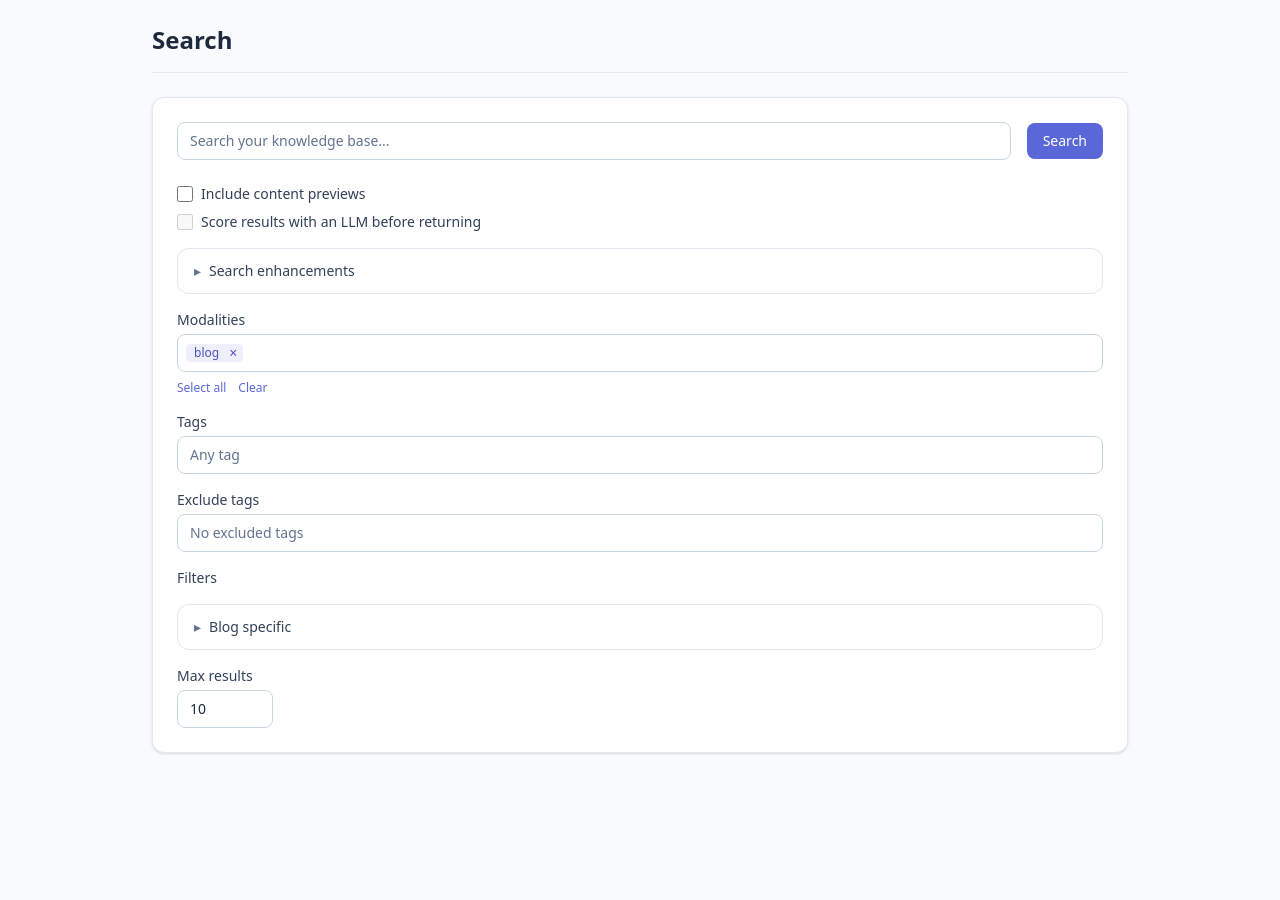
Test: Search › uses the singular result wording for one result
Type "q" into the field with placeholder "Search your knowledge base...".
click(594, 141); type("q")  # box [177, 122, 1011, 160]
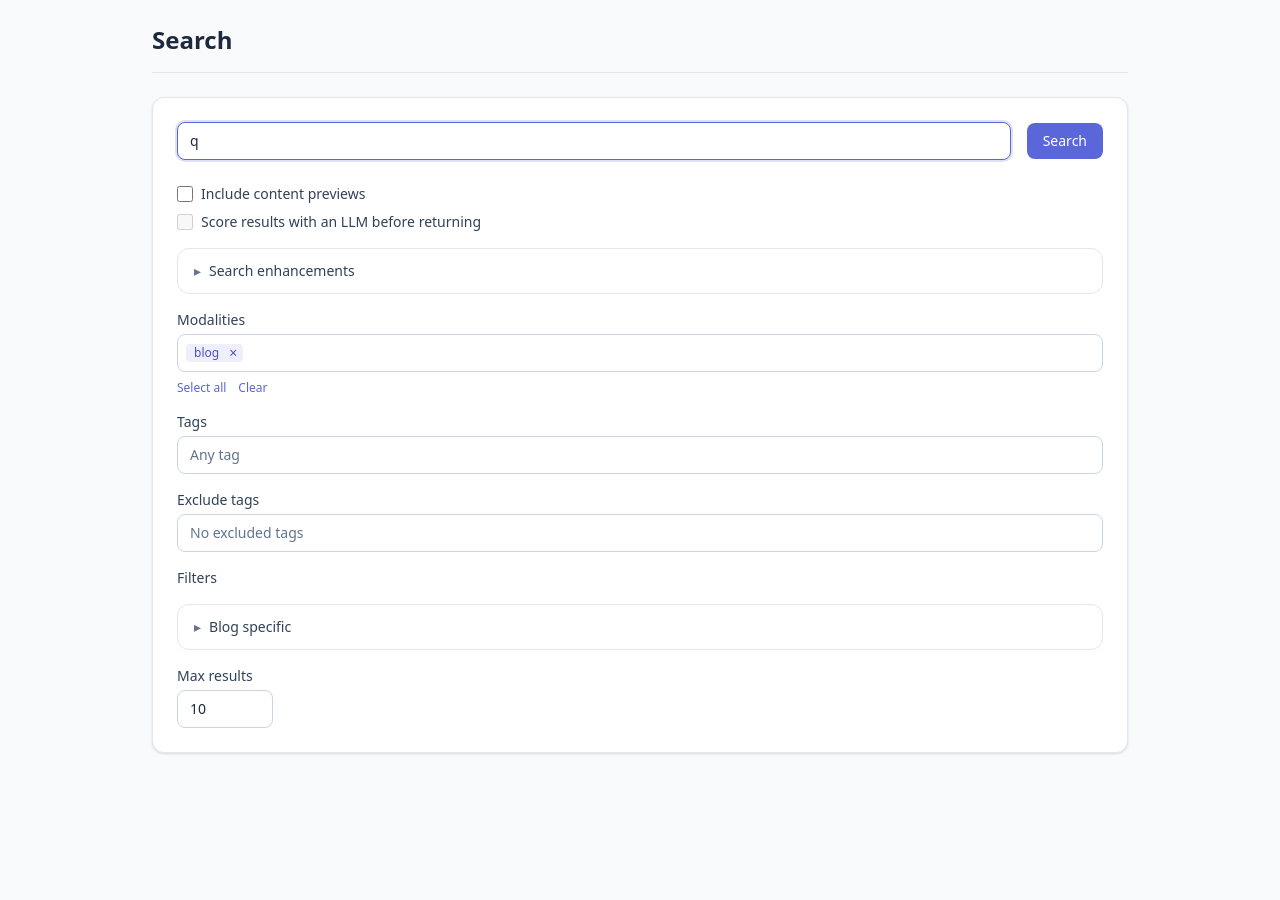
Click the button "Search".
click(1065, 141)  # box [1027, 123, 1103, 159]
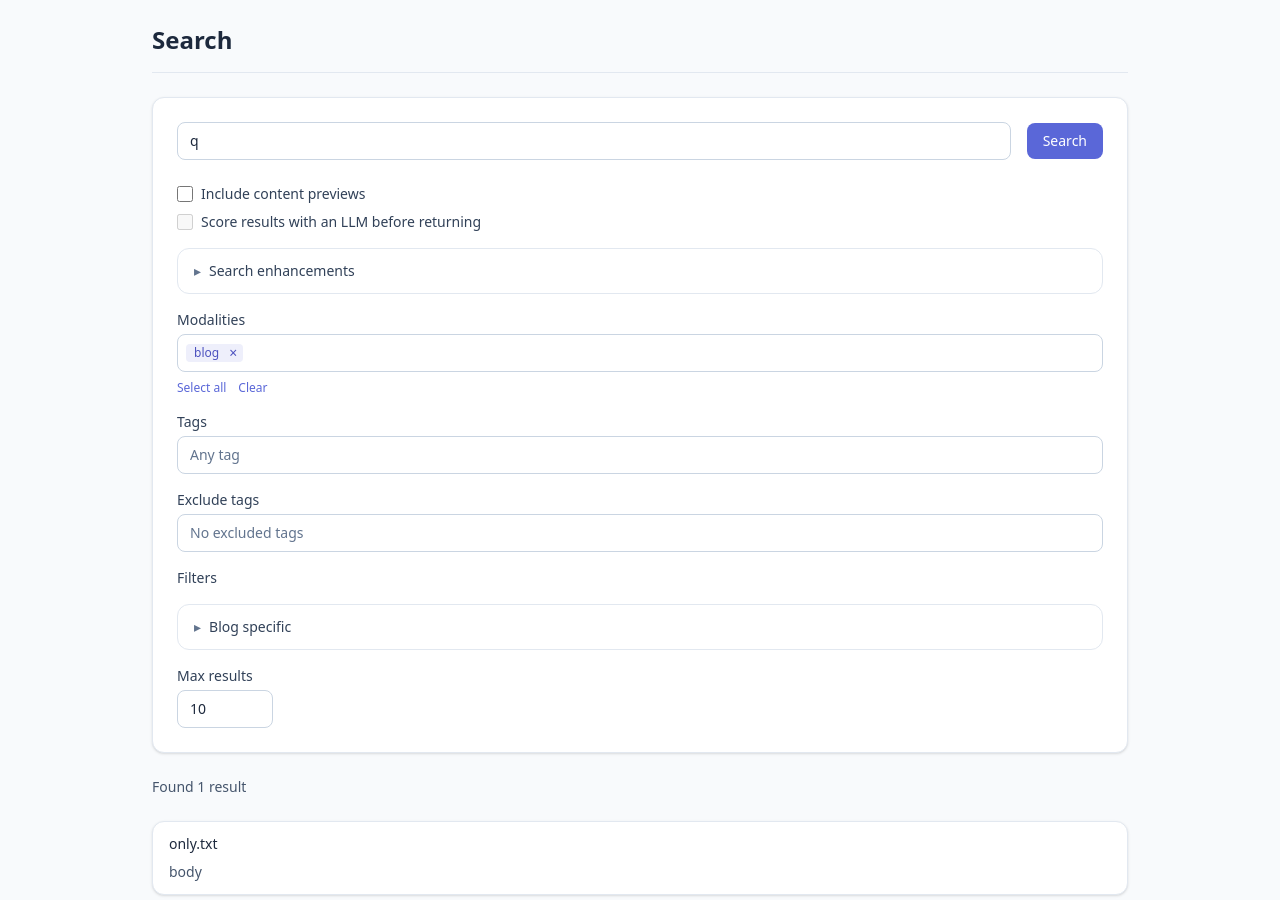
Result: the text "Found 1 result" is shown at [152, 777, 246, 796]
